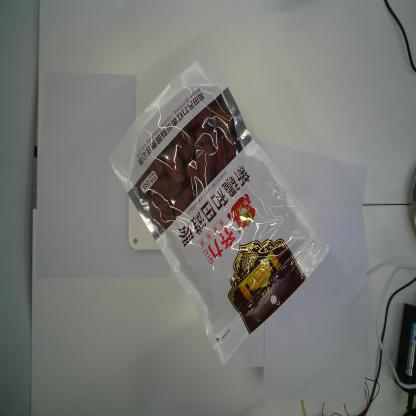Dried Food: (107, 50, 332, 367)
